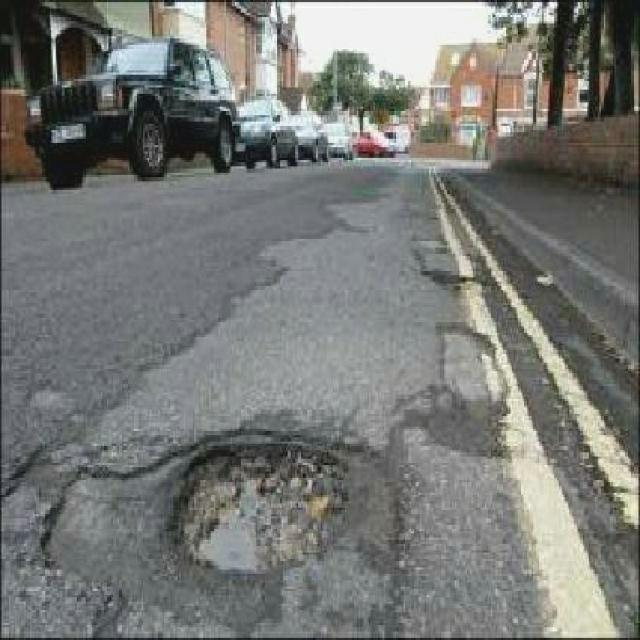Pothole: (167, 431, 360, 578)
